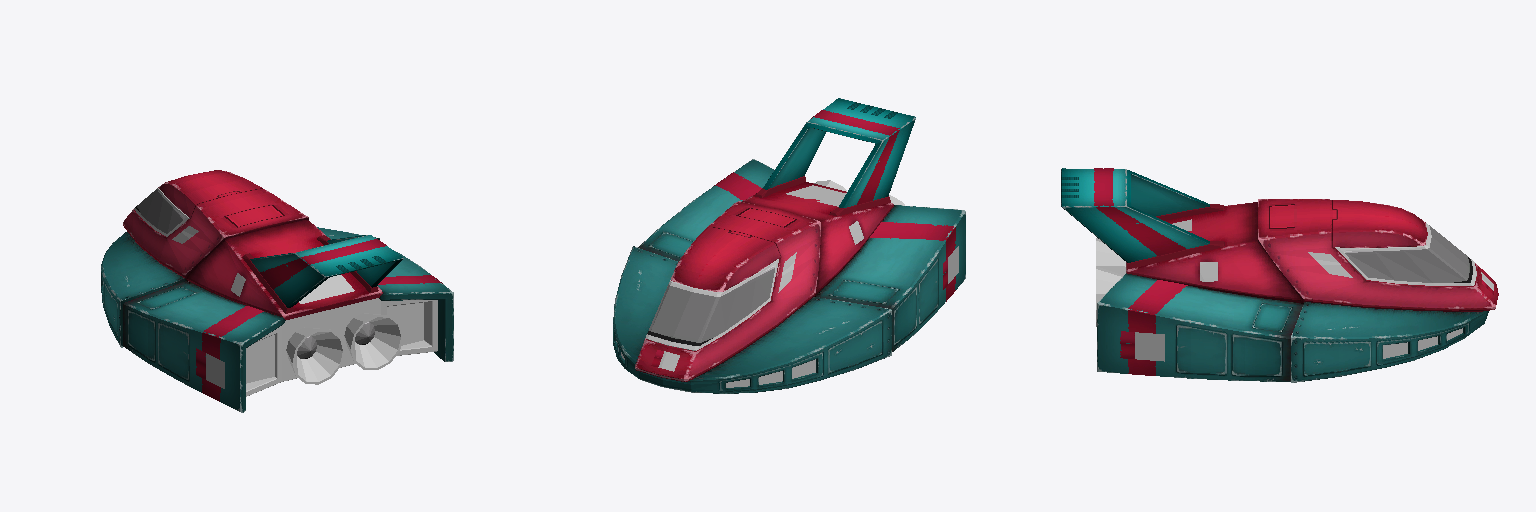
The picture shows the model from 3 angles: view 1: azimuth 30°, elevation 25°; view 2: azimuth 150°, elevation 25°; view 3: azimuth 270°, elevation 25°; orthographic projection.
Parts seen in each view (by area): view 1: 12_superpiranha_a; view 2: 12_superpiranha_a; view 3: 12_superpiranha_a.
Boxes of the visible parts, box(x1,y1,x2,y2) form: 12_superpiranha_a: box(101, 170, 453, 412); 12_superpiranha_a: box(613, 98, 965, 393); 12_superpiranha_a: box(1061, 168, 1498, 382).
Size of the model in its own units: 2.5 by 1.27 by 3.65.
21 materials, 5 textured.